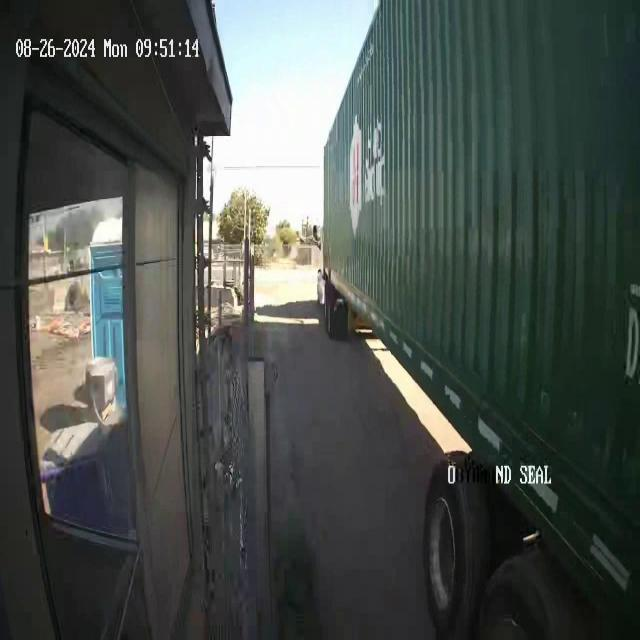TRUCK_OUT: (320, 1, 640, 636)
